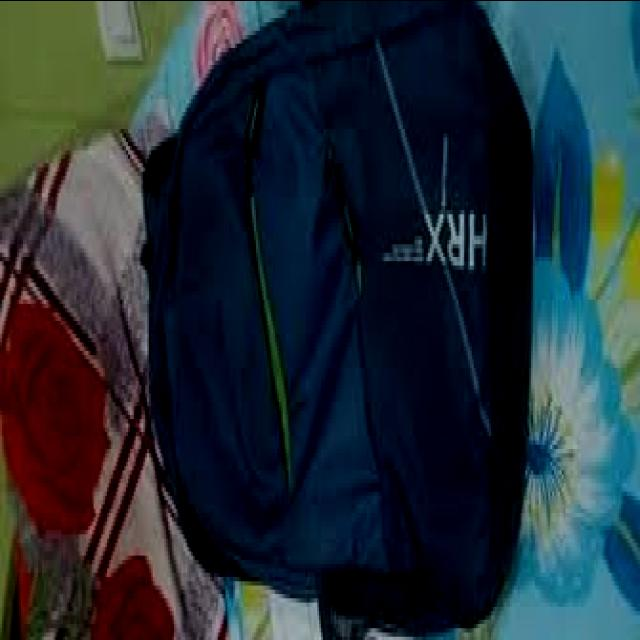backpack: (139, 5, 533, 640)
